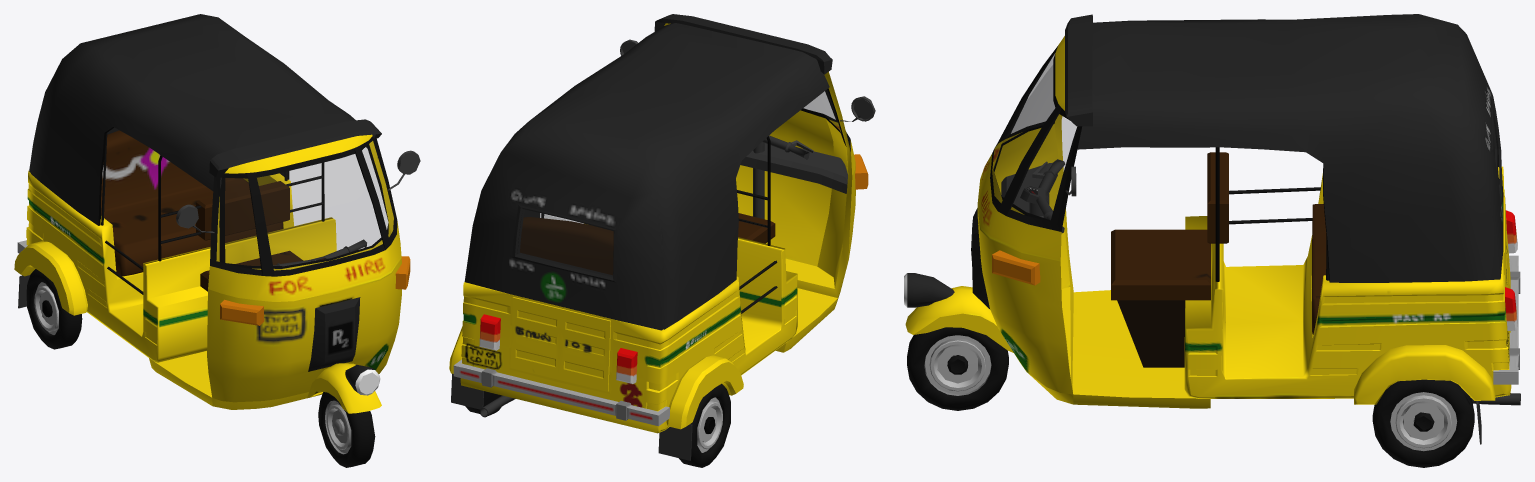
The model's file is player_auto.glb.
The picture shows the model from 3 angles, left to right: view 1: azimuth 30°, elevation 25°; view 2: azimuth 150°, elevation 25°; view 3: azimuth 270°, elevation 25°; orthographic projection. The views are drawn at different scales.
Visible parts, largest first — view 1: persp5_lambert1_0, persp5_blinn1_0; view 2: persp5_lambert1_0, persp5_blinn1_0; view 3: persp5_lambert1_0, persp5_blinn1_0.
Boxes of the visible parts, <box> form: persp5_lambert1_0: <box>14,14,420,467</box>; persp5_blinn1_0: <box>217,141,393,270</box>; persp5_lambert1_0: <box>449,14,875,467</box>; persp5_blinn1_0: <box>517,43,872,276</box>; persp5_lambert1_0: <box>904,14,1520,467</box>; persp5_blinn1_0: <box>992,53,1498,222</box>.
Bounding box in the file's own units: 1.5 × 1.74 × 2.72.
2 materials, 1 textured.
